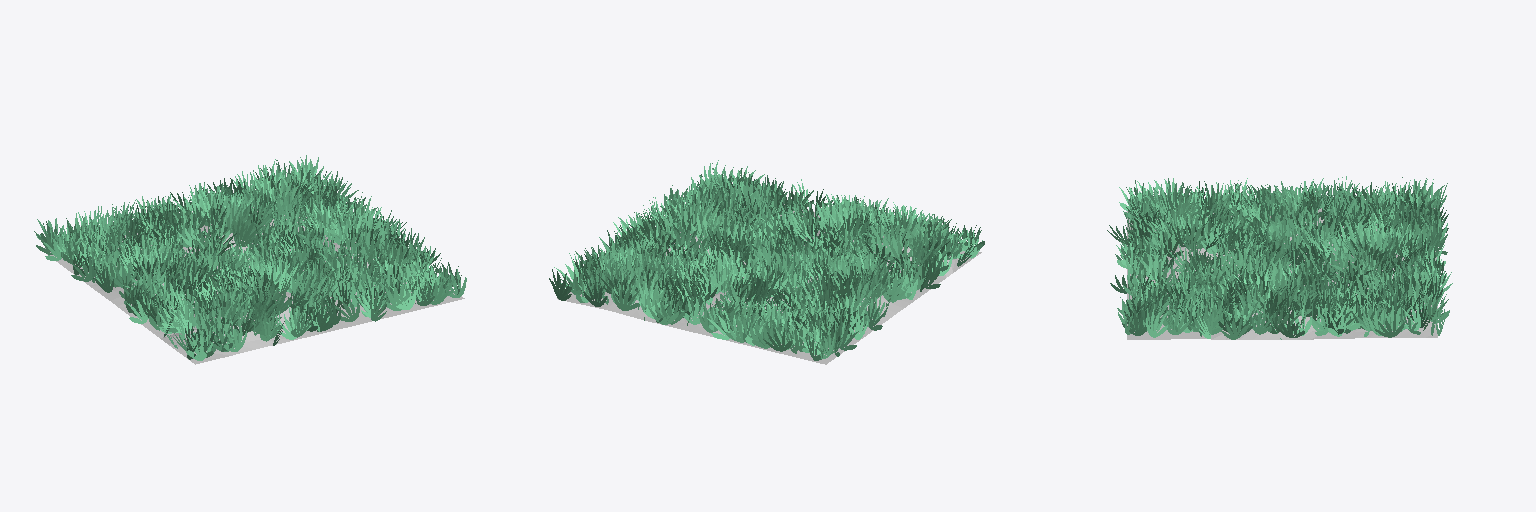
3 views of the same model, side by side, from view 1: azimuth 30°, elevation 25°; view 2: azimuth 150°, elevation 25°; view 3: azimuth 270°, elevation 25° (orthographic).
Visible parts, largest first — view 1: strand.002, plane; view 2: strand.002, plane; view 3: strand.002, plane.
Boxes of the visible parts, box(x1,y1,x2,y2) form: strand.002: box(34, 155, 466, 360); plane: box(45, 207, 464, 364); strand.002: box(549, 160, 984, 360); plane: box(557, 204, 981, 364); strand.002: box(1107, 176, 1452, 339); plane: box(1127, 208, 1437, 339).
Size of the model in its own units: 5.55 by 0.8808 by 5.44.
Materials: 2 (1 with a texture image).